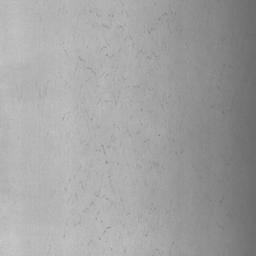Silk spot: (96, 144, 110, 155)
